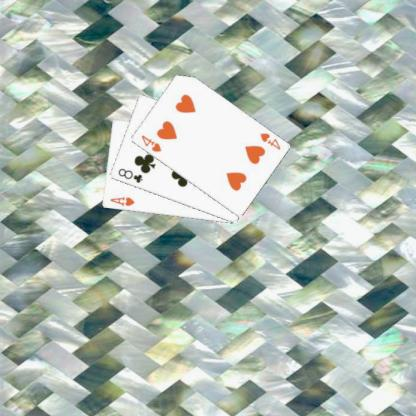4H: (138, 132, 162, 154), (257, 130, 282, 151)
8C: (115, 166, 144, 184)
AH: (108, 194, 136, 208)
